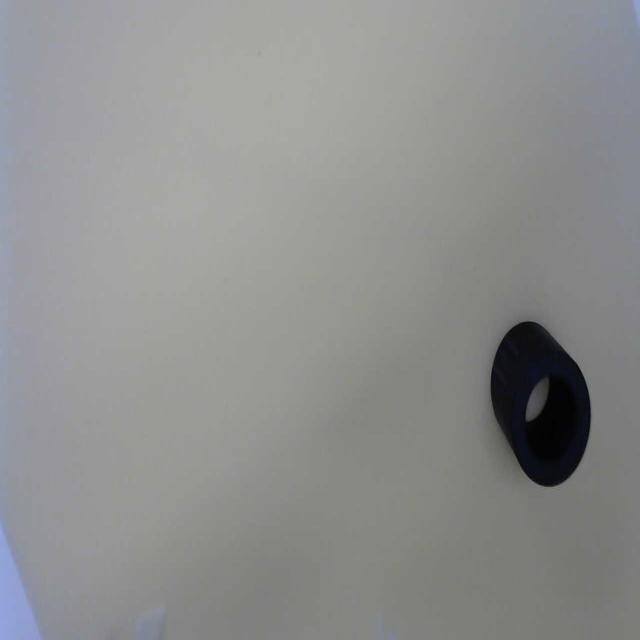ring: (514, 354, 592, 489)
